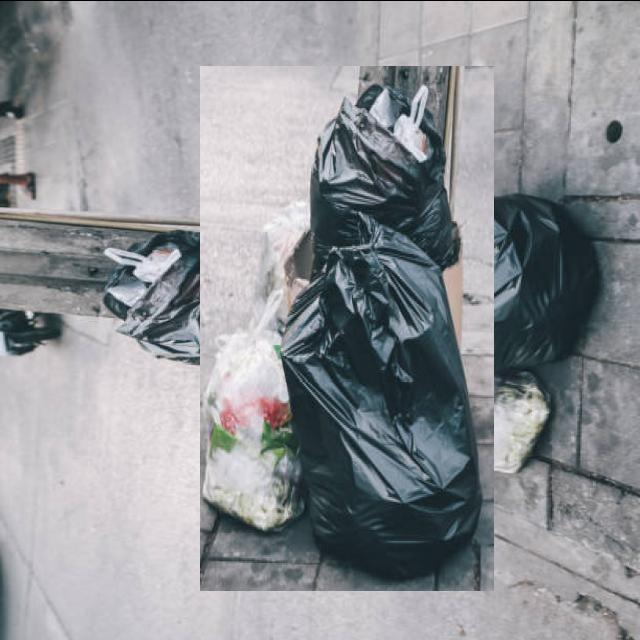garbage: (142, 123, 552, 533)
